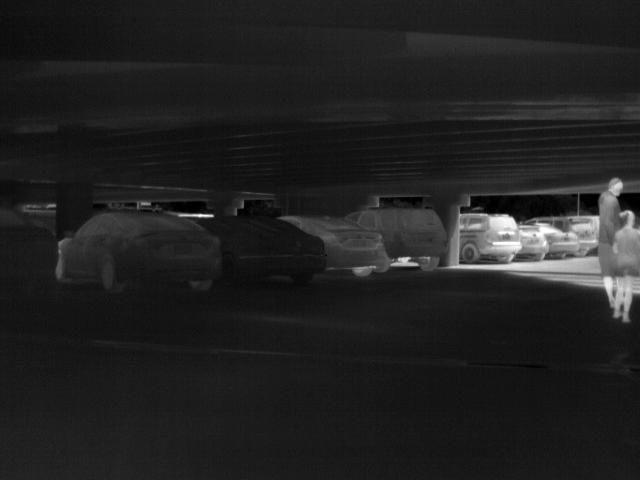car: (56, 207, 224, 295), (190, 214, 326, 288), (271, 214, 384, 279), (344, 207, 450, 271), (3, 205, 56, 303), (458, 212, 525, 261), (522, 218, 597, 260), (528, 222, 579, 264), (513, 221, 547, 262)
person: (596, 176, 627, 310), (612, 208, 639, 323)
